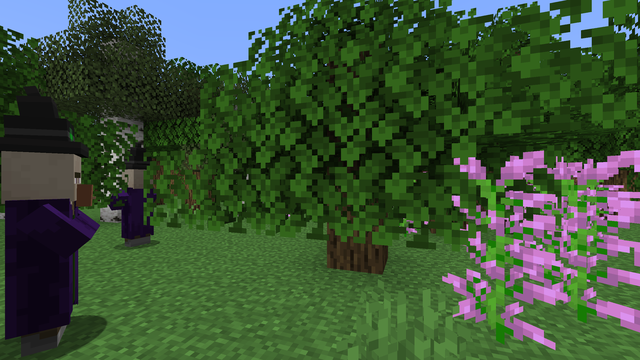sorcieres: (1, 141, 98, 358), (116, 166, 156, 248)
